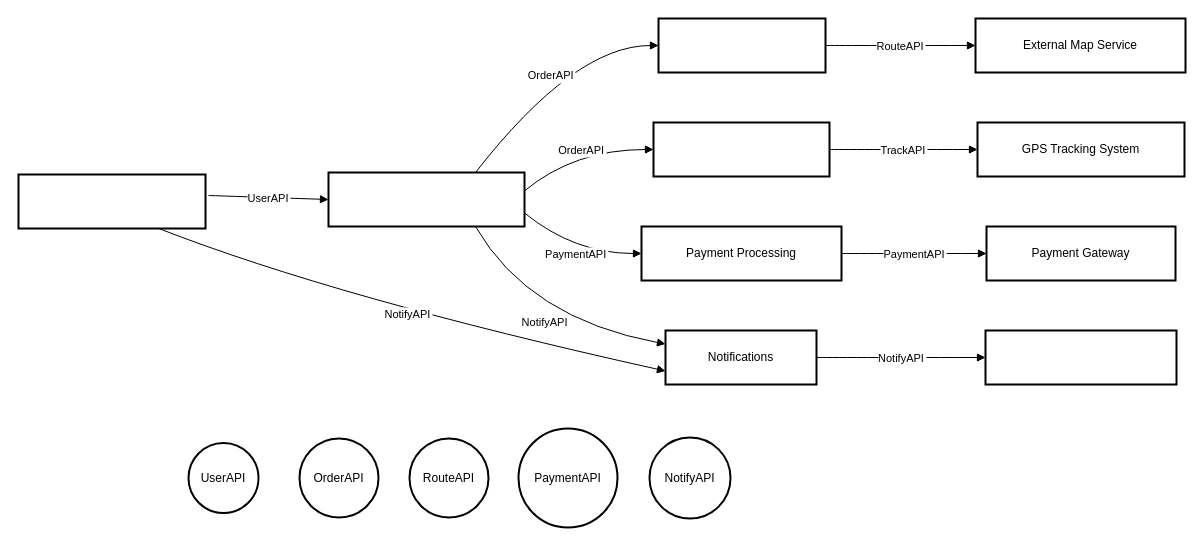
This 1203x545 diagram has some shape labels left out. Here are the shapes that lost their labels. From the top down, the centre of each, then its label:
At point 741,45: "Route Planning".
At point 741,149: "Vehicle Tracking".
At point 111,201: "User Management".
At point 426,199: "Order Management".
At point 1080,357: "SMS/Email Service".
